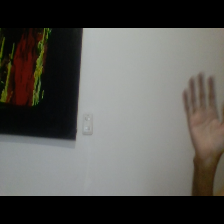left: (177, 68, 224, 168)
